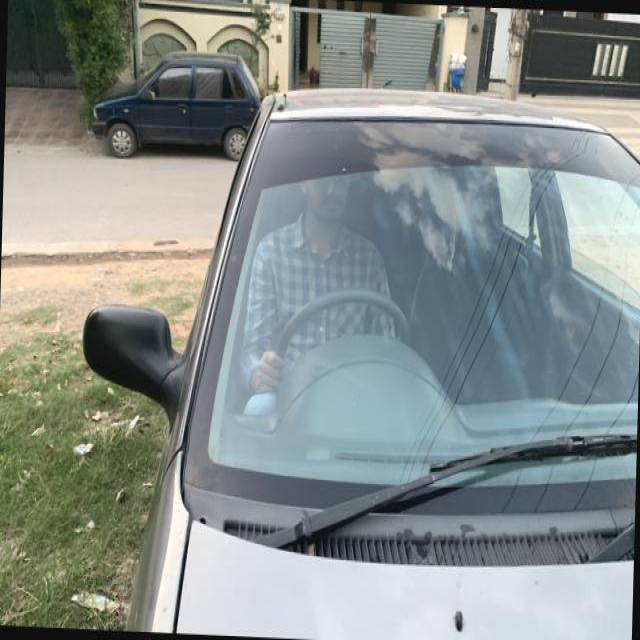no-seatbelt: (254, 228, 426, 374)
